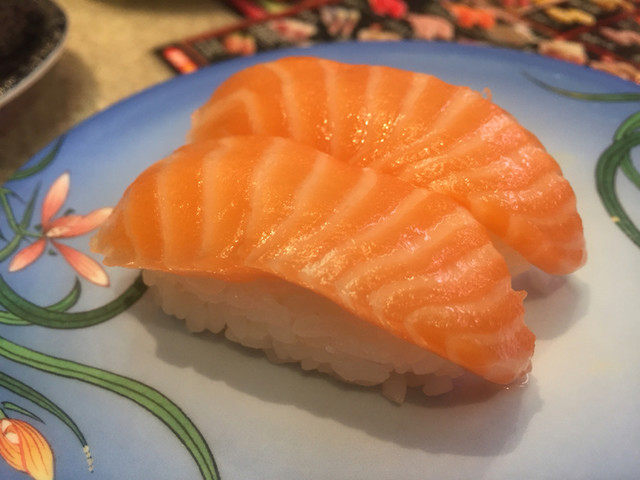salmon: (96, 55, 587, 399)
